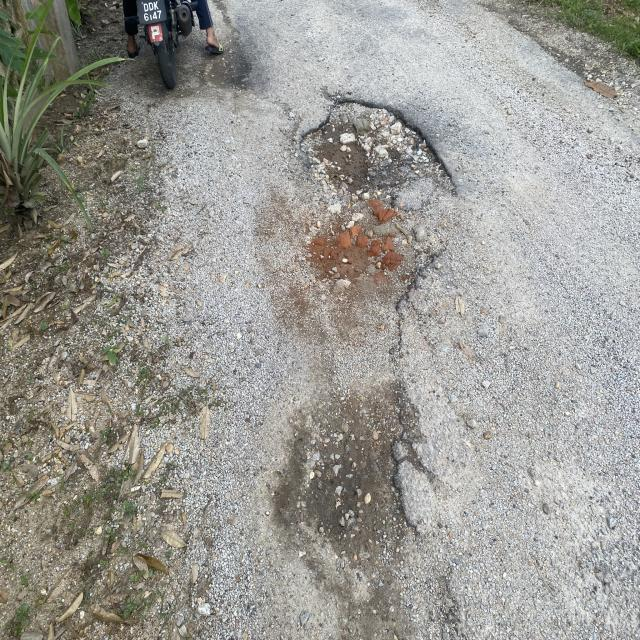Pothole: (296, 87, 503, 336), (244, 376, 482, 566)
